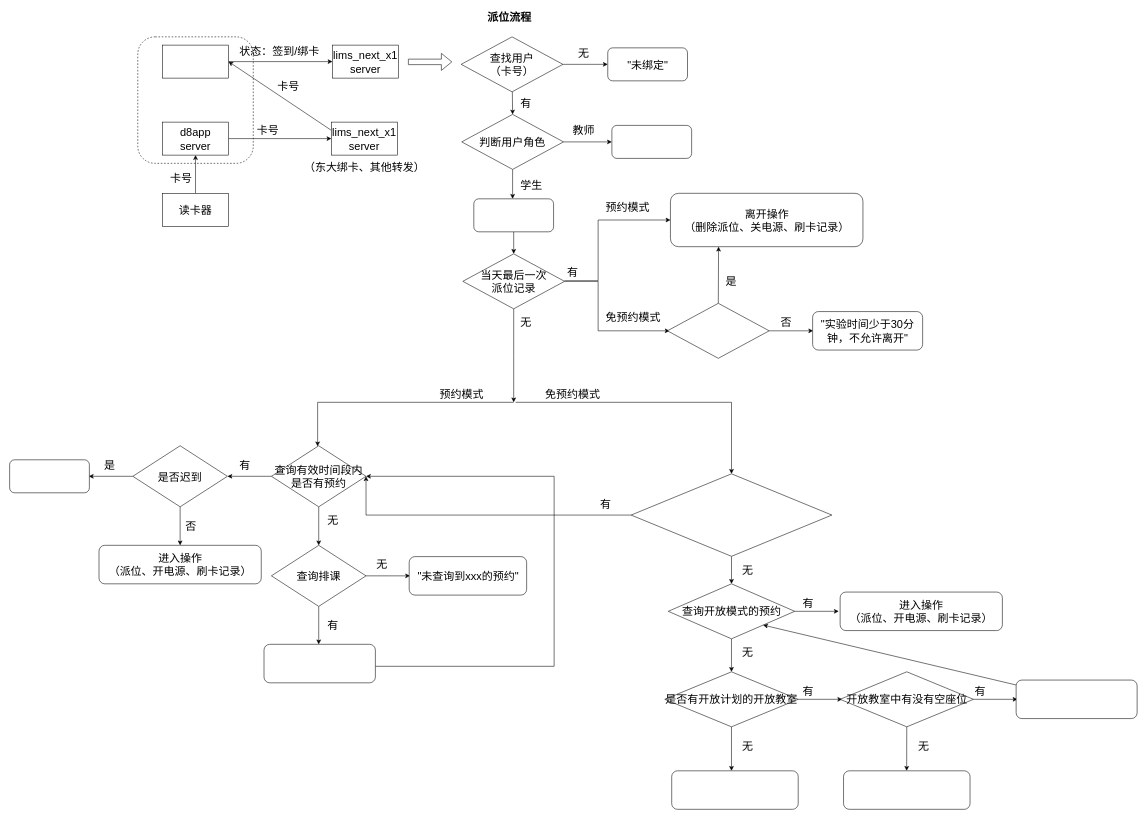
Image size: 1147x819. Some labels were removed from this diagram. Here are the shapes that lost their labels. From the top down, the centre of each, then its label:
the point at 195,61: d8app client
the point at 651,141: "欢迎,xxx"
the point at 513,215: 查询开放模式 预约/免预约
the point at 718,330: 实验时间>30min
the point at 49,476: "迟到无法进入"
the point at 731,514: 先检查是否有预约或排课 （如果有排课先保证上课，而不是开放）
the point at 319,663: 根据排课生成预约
the point at 1076,699: 增加开放模式的预约
the point at 734,789: "当前时段暂无开放教室"
the point at 906,789: "开放教室座位已满"
